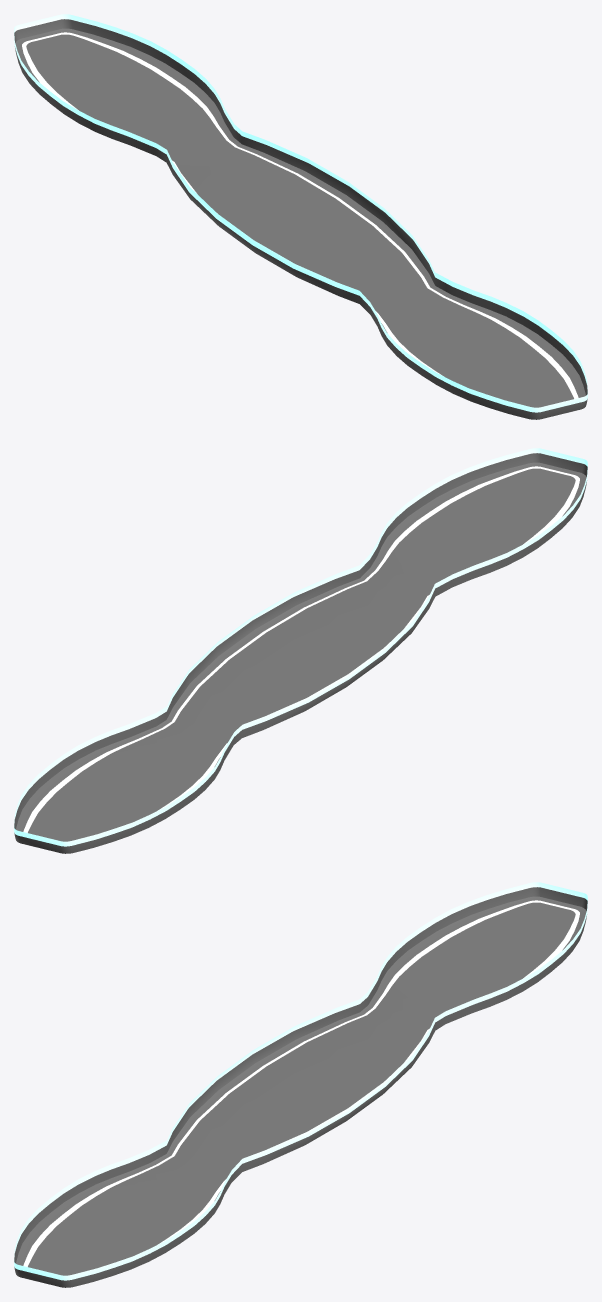
The model's file is Deco_Ceiling_01.fbx.
3 renders of one model, top to bottom at view 1: azimuth 30°, elevation 25°; view 2: azimuth 150°, elevation 25°; view 3: azimuth 330°, elevation 25°, orthographic.
Parts seen in each view (by area): view 1: Deco_Ceiling_01; view 2: Deco_Ceiling_01; view 3: Deco_Ceiling_01.
Boxes of the visible parts, x1,y1,x2,y2 form: Deco_Ceiling_01: [14, 14, 587, 419]; Deco_Ceiling_01: [14, 448, 587, 853]; Deco_Ceiling_01: [14, 882, 587, 1287].
Bounding box in the file's own units: 707 × 74.14 × 4812.
